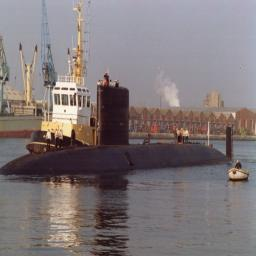submarine: (2, 88, 236, 177)
